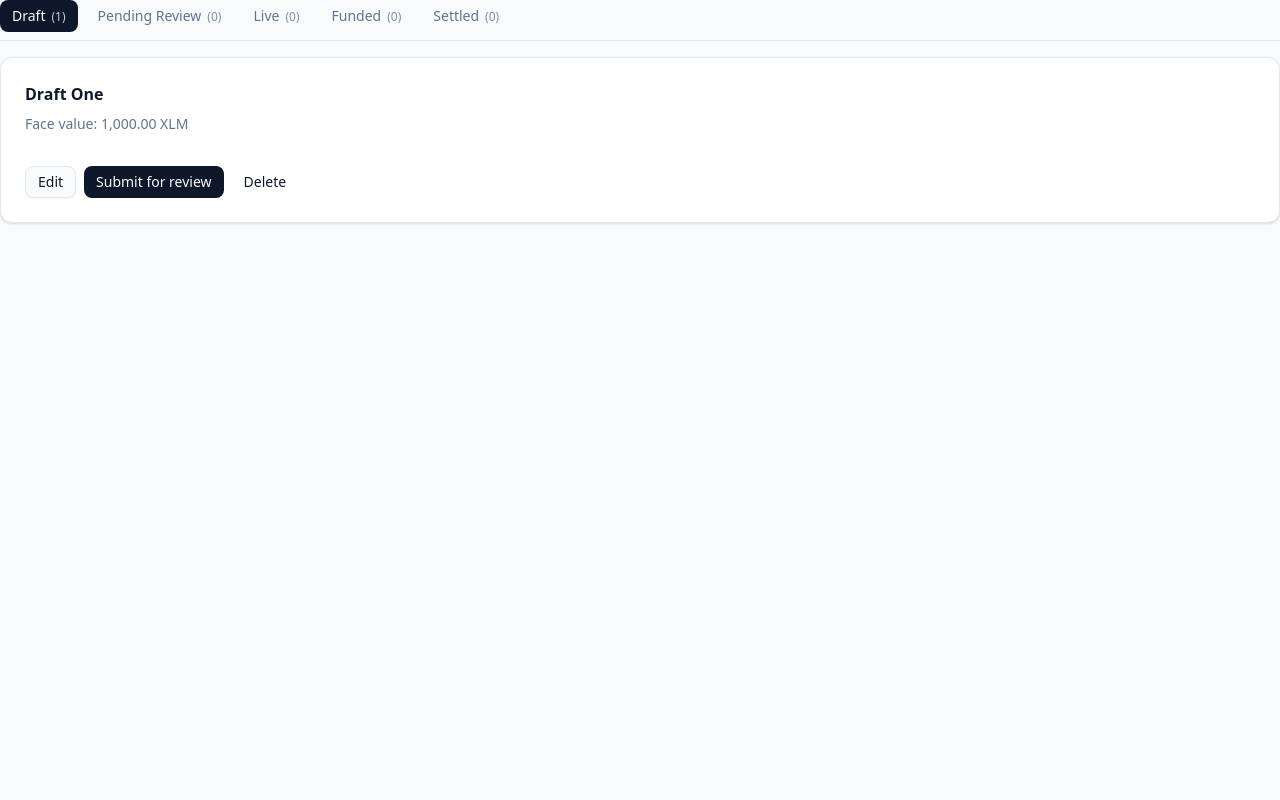
Test case: delete confirmation › surfaces a delete failure in the dialog
Click the button with test id "delete-invoice-d1".
click(265, 182)  # box x1=232 y1=166 x2=298 y2=198
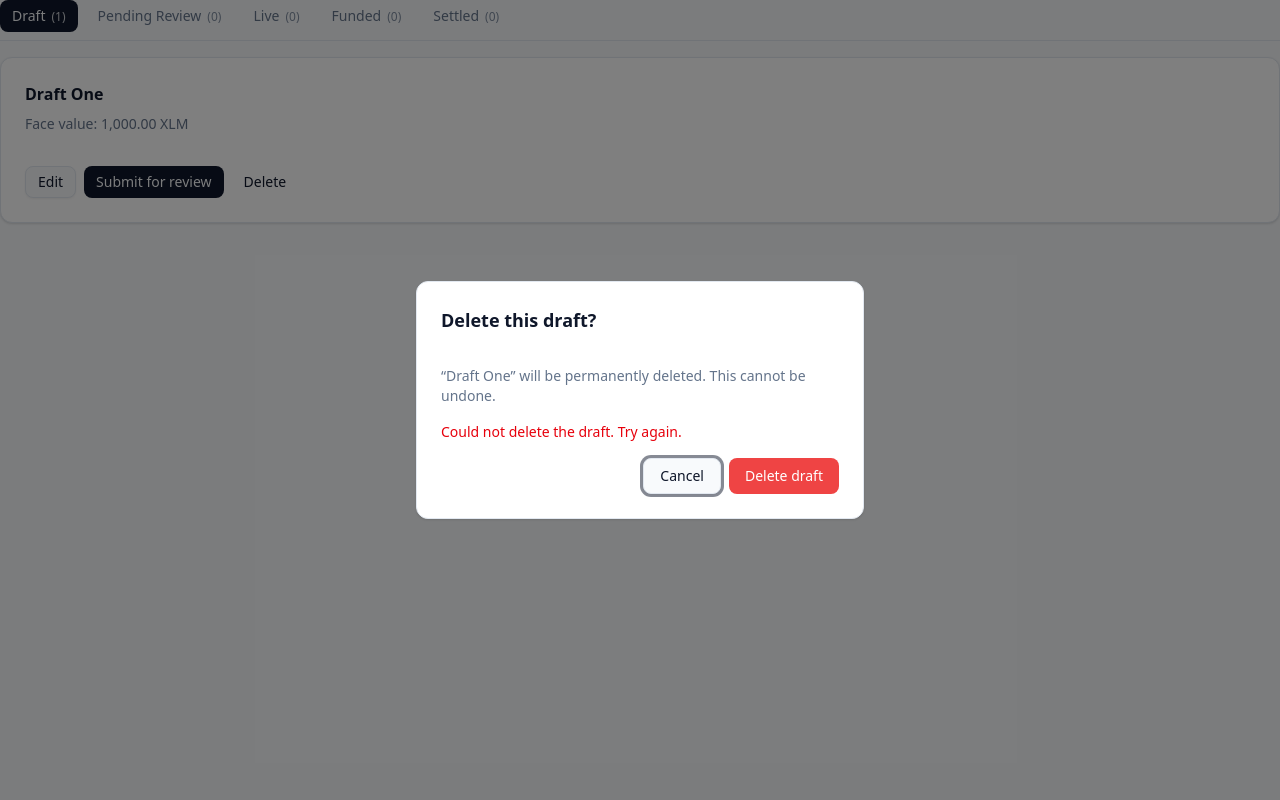
Expected: the message shows "Could not delete the draft", x1=441 y1=422 x2=682 y2=441
